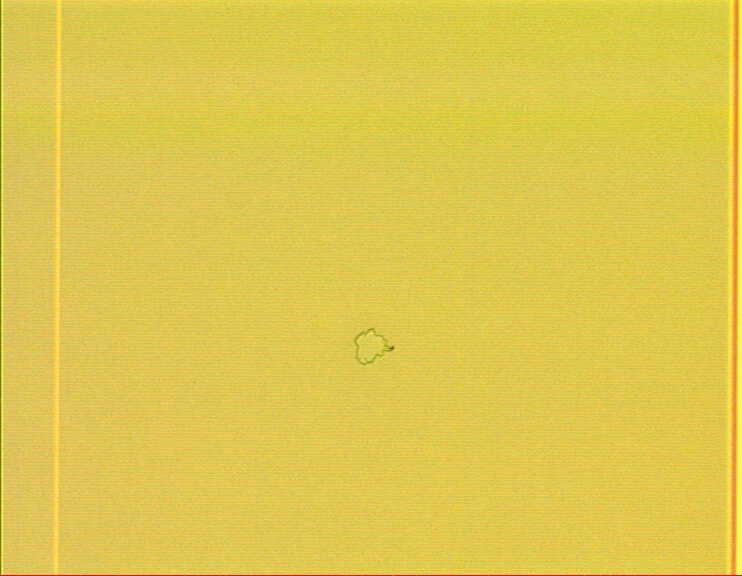PIQ PARTICLE: (349, 326, 398, 370)
